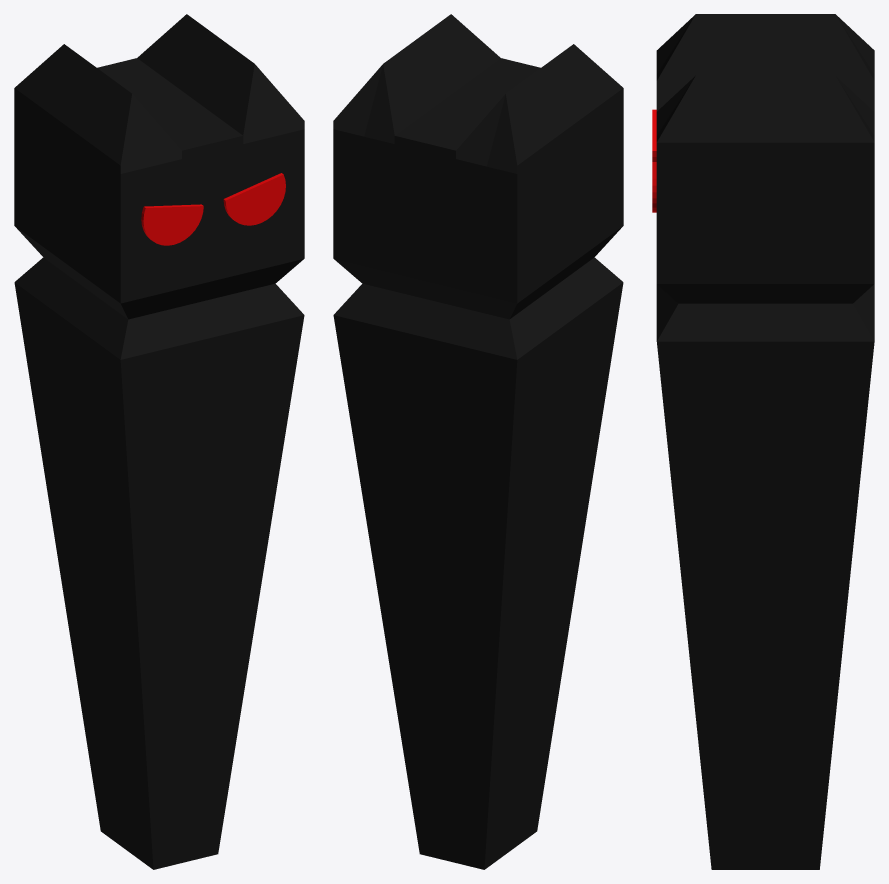
Rendered from Sombra.fbx.
The picture shows the model from 3 angles, left to right: view 1: azimuth 30°, elevation 25°; view 2: azimuth 150°, elevation 25°; view 3: azimuth 270°, elevation 25°; orthographic projection. The views are drawn at different scales.
Visible parts, largest first — view 1: Sombra; view 2: Sombra; view 3: Sombra.
Boxes of the visible parts, bbox=[...] form: Sombra: bbox=[14, 14, 304, 869]; Sombra: bbox=[333, 14, 623, 869]; Sombra: bbox=[652, 14, 874, 869].
Bounding box in the file's own units: 200 × 820 × 204.
